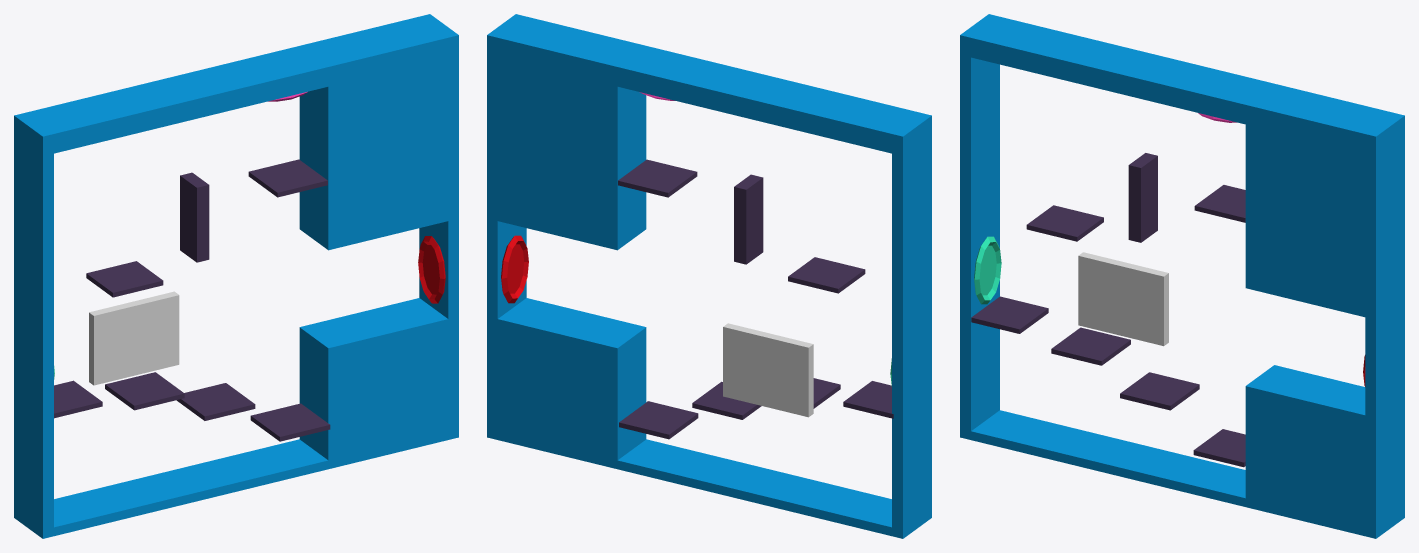
The model's file is SalaA_prototipo.glb.
The picture shows the model from 3 angles, left to right: view 1: azimuth 30°, elevation 25°; view 2: azimuth 150°, elevation 25°; view 3: azimuth 330°, elevation 25°; orthographic projection.
Visible parts, largest first — view 1: MeshA-col, Cubo-col, plataforma.002-col, plataforma.006-col, plataforma.004-col, plataforma.008-col, plataforma.005-col, plataforma.003-col, portalRed, plataforma.007-col; view 2: MeshA-col, Cubo-col, plataforma.002-col, plataforma.004-col, plataforma.008-col, plataforma.003-col, portalRed, plataforma.007-col, plataforma.005-col; view 3: MeshA-col, Cubo-col, plataforma.002-col, plataforma.005-col, plataforma.006-col, plataforma.007-col, plataforma.003-col, portalVerde, plataforma.004-col, plataforma.008-col.
Part boxes in pixels (x1,y1,x2,y2): MeshA-col: (14, 14, 458, 538); Cubo-col: (89, 291, 179, 385); plataforma.002-col: (180, 172, 209, 262); plataforma.006-col: (105, 372, 184, 410); plataforma.004-col: (250, 403, 330, 441); plataforma.008-col: (248, 159, 327, 197); plataforma.005-col: (176, 383, 255, 420); plataforma.003-col: (86, 261, 163, 297); portalRed: (418, 236, 445, 303); plataforma.007-col: (54, 380, 102, 418); MeshA-col: (487, 14, 931, 538); Cubo-col: (723, 323, 813, 417); plataforma.002-col: (734, 174, 763, 264); plataforma.004-col: (619, 401, 698, 439); plataforma.008-col: (618, 159, 697, 197); plataforma.003-col: (788, 257, 865, 293); portalRed: (501, 235, 528, 303); plataforma.007-col: (843, 381, 893, 418); plataforma.005-col: (692, 381, 761, 419); MeshA-col: (960, 14, 1404, 538); Cubo-col: (1078, 252, 1168, 346); plataforma.002-col: (1128, 153, 1157, 242); plataforma.005-col: (1120, 372, 1199, 410); plataforma.006-col: (1051, 327, 1130, 365); plataforma.007-col: (971, 296, 1048, 333); plataforma.003-col: (1026, 205, 1103, 241); portalVerde: (974, 236, 1001, 304); plataforma.004-col: (1193, 429, 1245, 467); plataforma.008-col: (1194, 185, 1245, 222).
Bounding box in the file's own units: 97.31 × 89.91 × 16.35.
